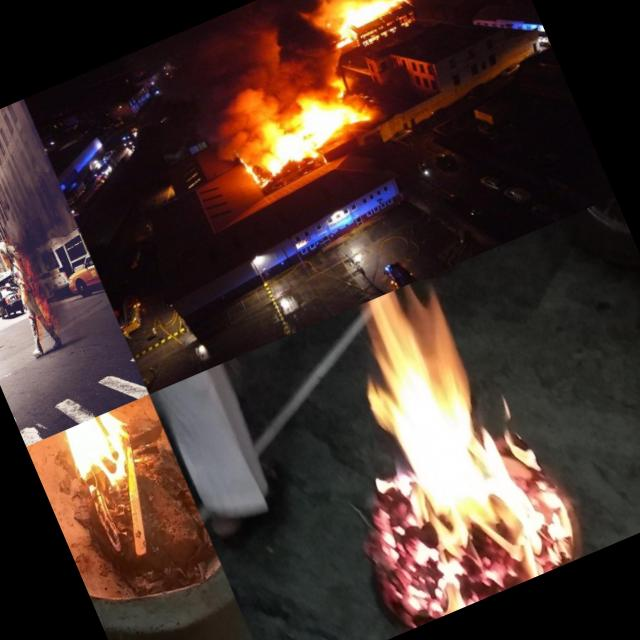fire: (282, 258, 592, 631), (242, 87, 383, 181), (51, 406, 156, 522), (322, 0, 421, 59), (14, 250, 61, 338), (27, 307, 47, 341)
smoke: (179, 27, 354, 154), (171, 0, 327, 83), (0, 182, 77, 254), (26, 244, 74, 326), (0, 149, 59, 206), (0, 112, 45, 165), (305, 0, 376, 12)
